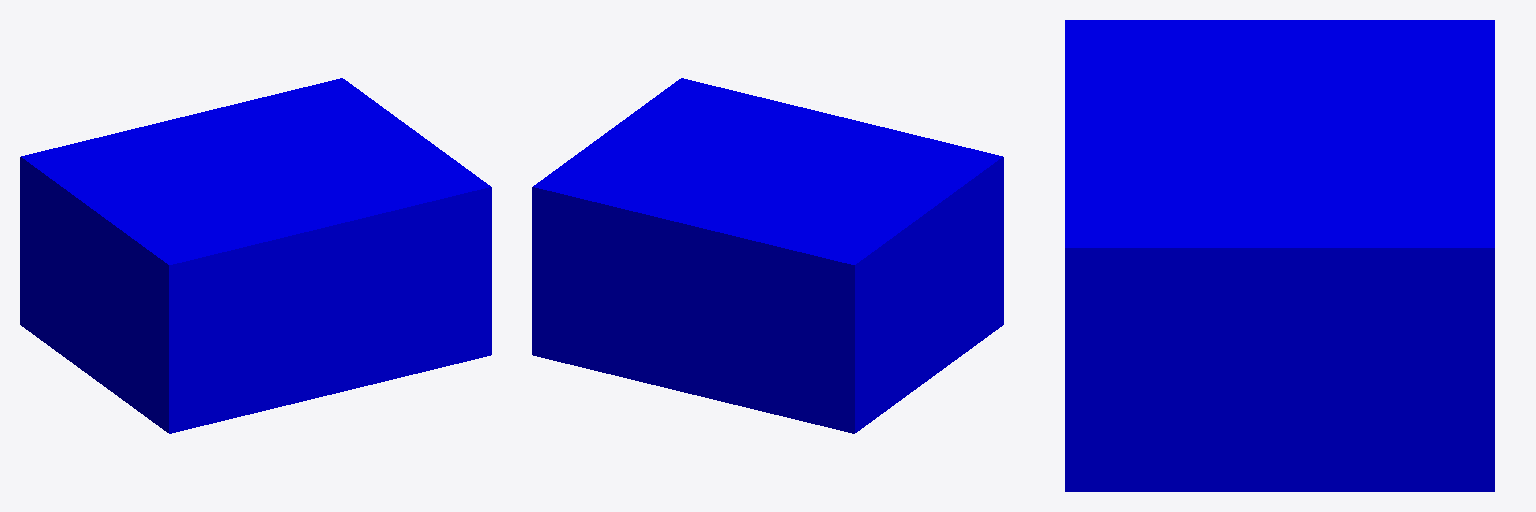
The robot description file, URDF, robot "large_box":
<?xml version="1.0" ?>
<robot name="large_box">
  <link name="base">
    <inertial>
      <mass value="0.15"/>
      <inertia ixx="0.00003" iyy="0.00003" izz="0.00003"/>
    </inertial>
    <visual>
      <geometry>
        <box size="0.05 0.04 0.025"/>
      </geometry>
      <material name="blue">
        <color rgba="0 0 1 1"/>
      </material>
    </visual>
    <collision>
      <geometry>
        <box size="0.05 0.04 0.025"/>
      </geometry>
    </collision>
  </link>
</robot>

--- Facts derived from the render (not from the file) ---
The picture shows the robot from 3 angles, left to right: view 1: azimuth 30°, elevation 25°; view 2: azimuth 150°, elevation 25°; view 3: azimuth 270°, elevation 25°; orthographic projection.
Robot: large_box — 1 links, 0 joints (none); root link base; default pose: every joint at zero.
Links seen in each view (by area): view 1: base; view 2: base; view 3: base.
Boxes of the visible links, box(x1,y1,x2,y2) form: base: box(20, 78, 491, 433); base: box(532, 78, 1003, 433); base: box(1065, 20, 1494, 491).
Size in the robot's own frame: 0.05 by 0.04 by 0.025 metres.
Geometry: primitives only (box / cylinder / sphere), no mesh files.